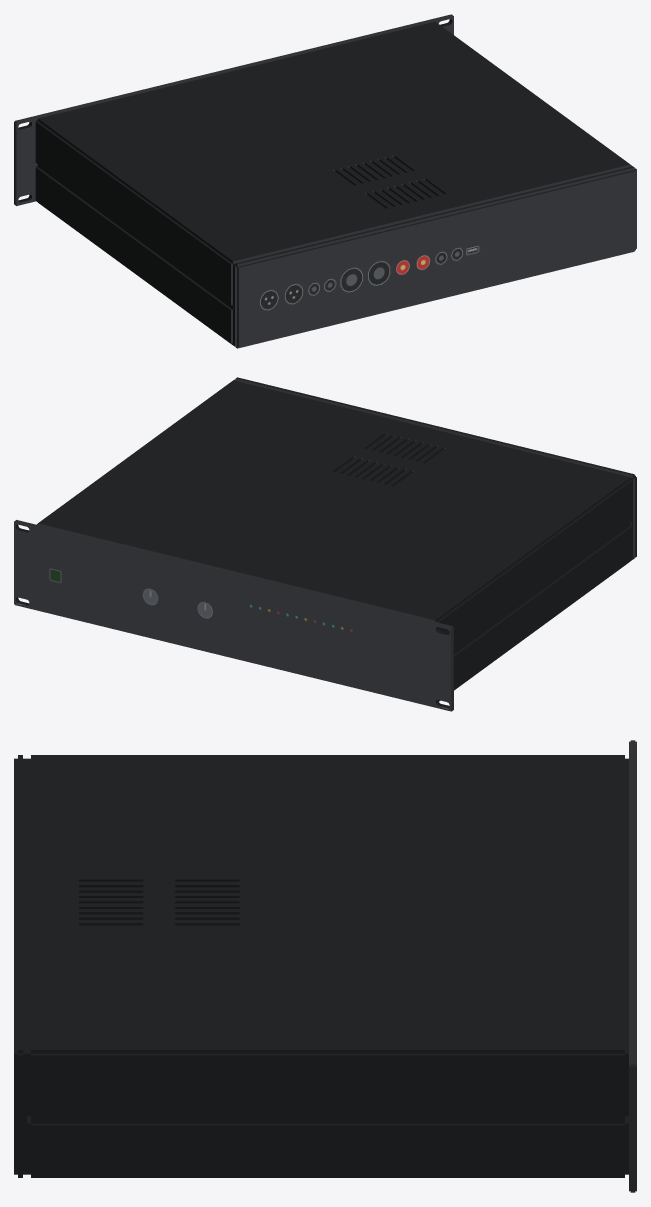
File: yamaha-px10.glb
3 views of the same model, one above another, from view 1: azimuth 30°, elevation 25°; view 2: azimuth 150°, elevation 25°; view 3: azimuth 270°, elevation 25° (orthographic). The views are drawn at different scales.
Parts seen in each view (by area): view 1: yamaha-px10-body; view 2: yamaha-px10-body; view 3: yamaha-px10-body.
Boxes of the visible parts, left/top/right/bottom form: yamaha-px10-body: left=14, top=14, right=636, bottom=348; yamaha-px10-body: left=14, top=377, right=636, bottom=711; yamaha-px10-body: left=14, top=740, right=636, bottom=1192.
Bounding box in the file's own units: 0.48 × 0.088 × 0.388.
Materials: 1 (1 with a texture image).
